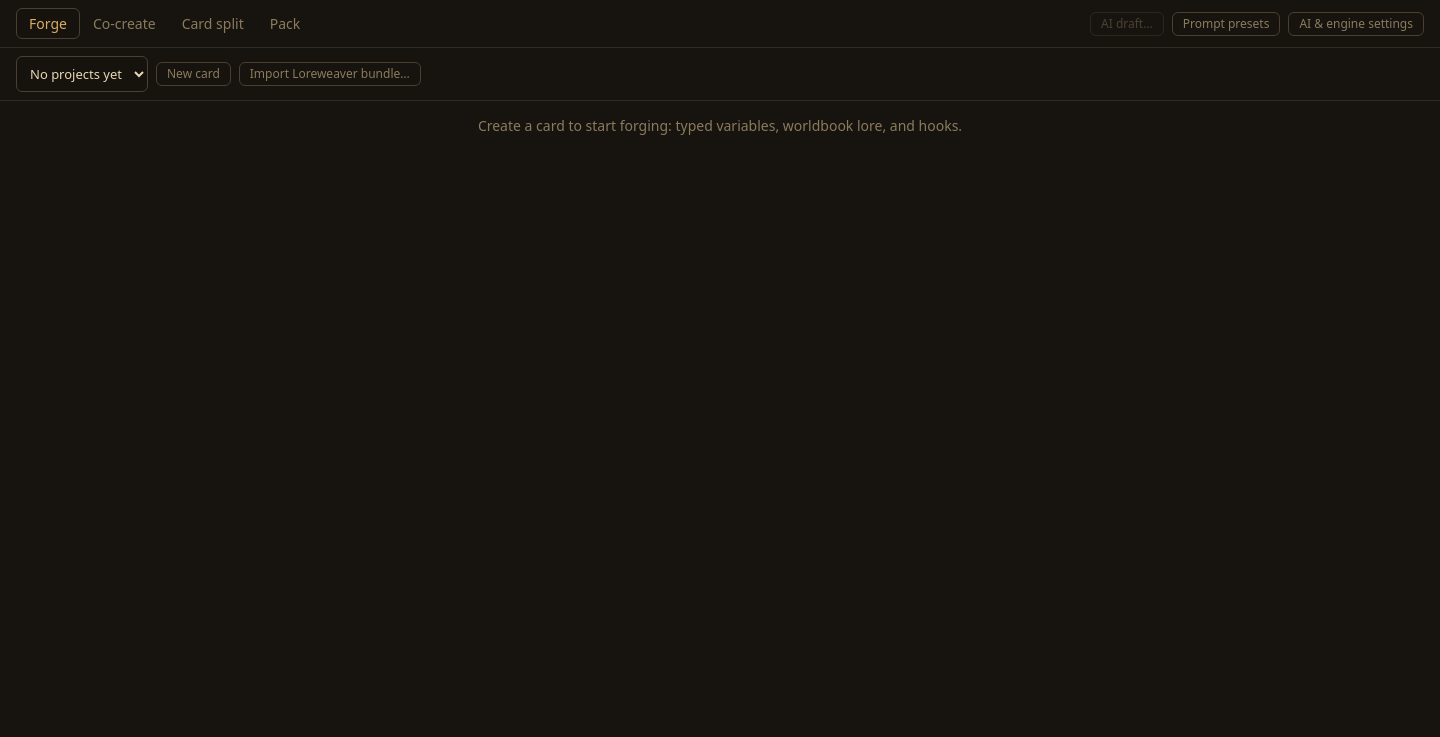
StudioView › edits card fields and flags a missing name
Click the button "New card" at [193, 74], box [156,62,231,86]
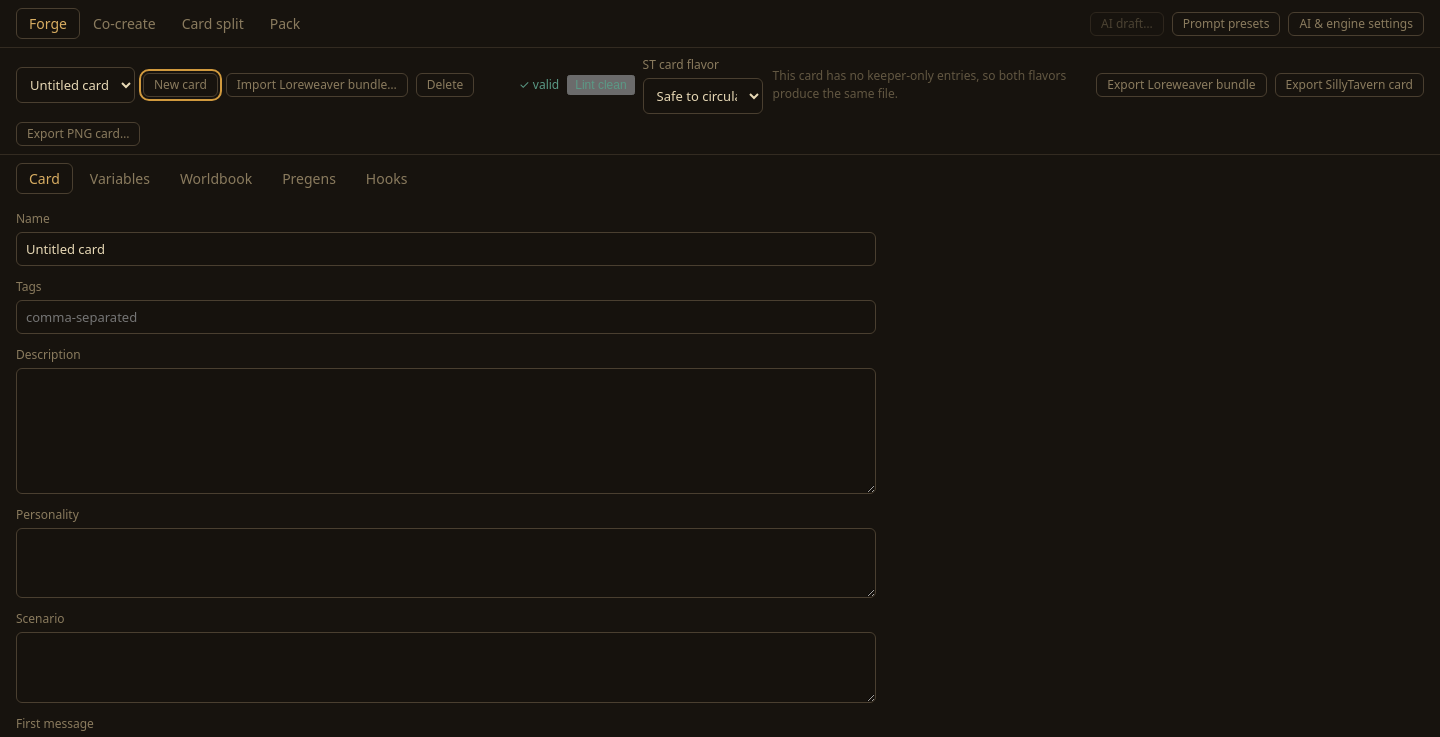
Clear the field labelled "Name" at [446, 249], box [16,232,876,266]
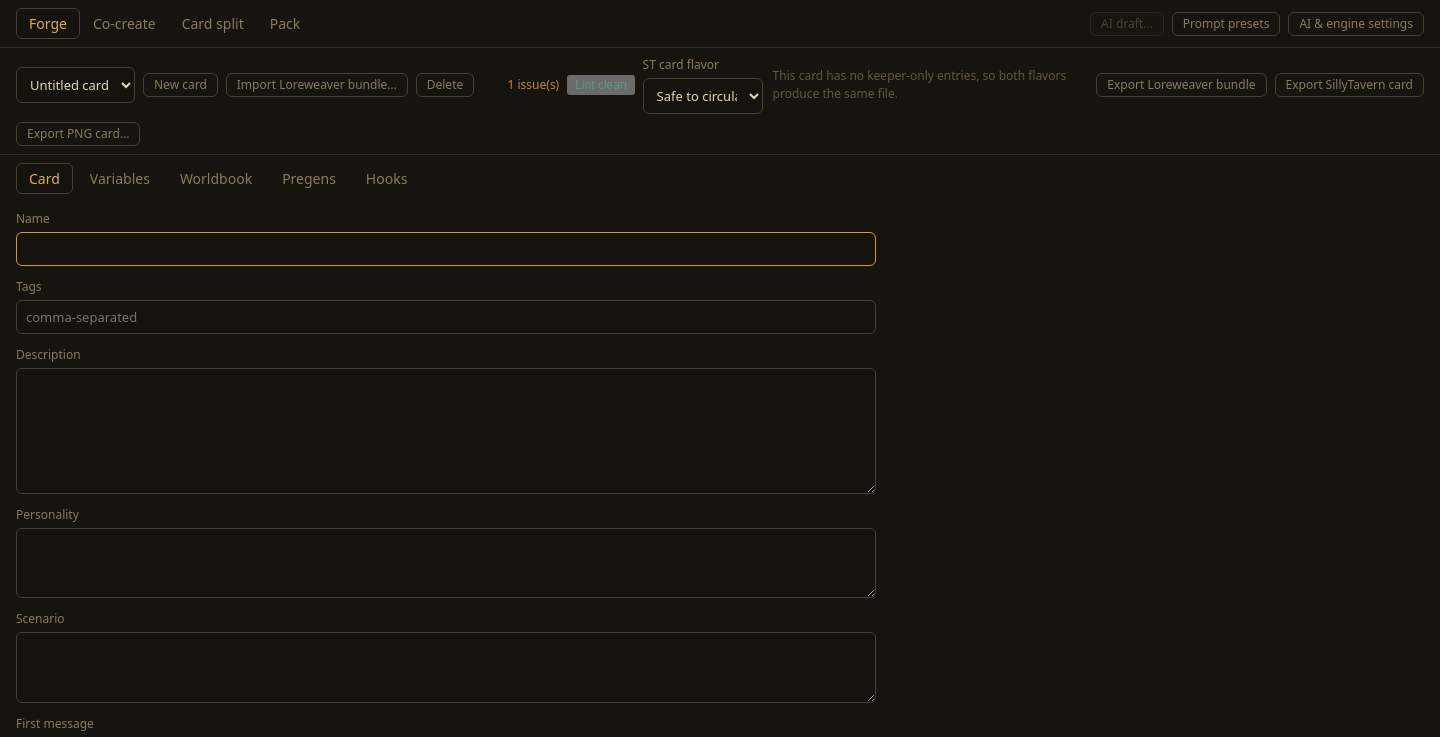
Expected: the text "1 issue(s)" is shown, [508,76,559,94]
Type "Deep Pier" into the field labelled "Name" at [446, 249], box [16,232,876,266]
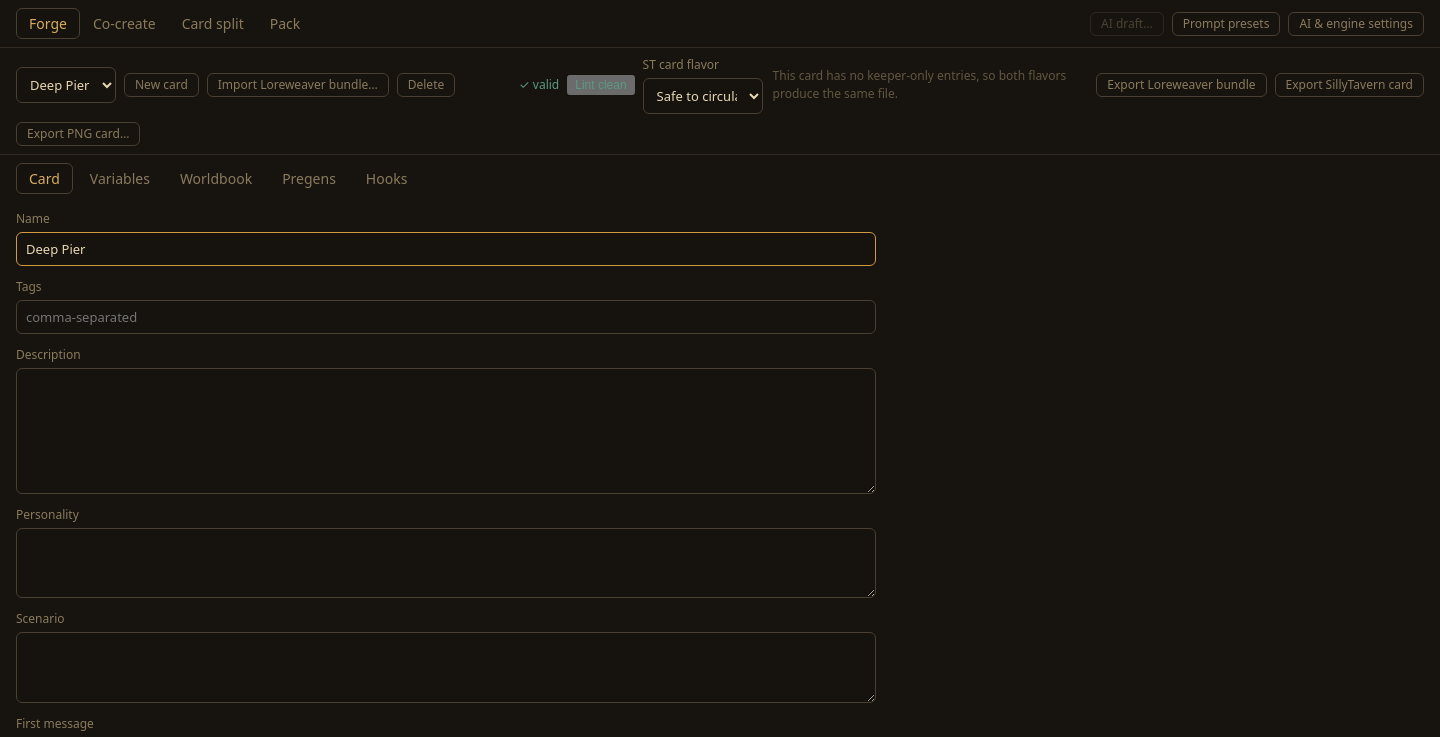
Expected: the text "✓ valid" is shown, [519,76,559,94]
